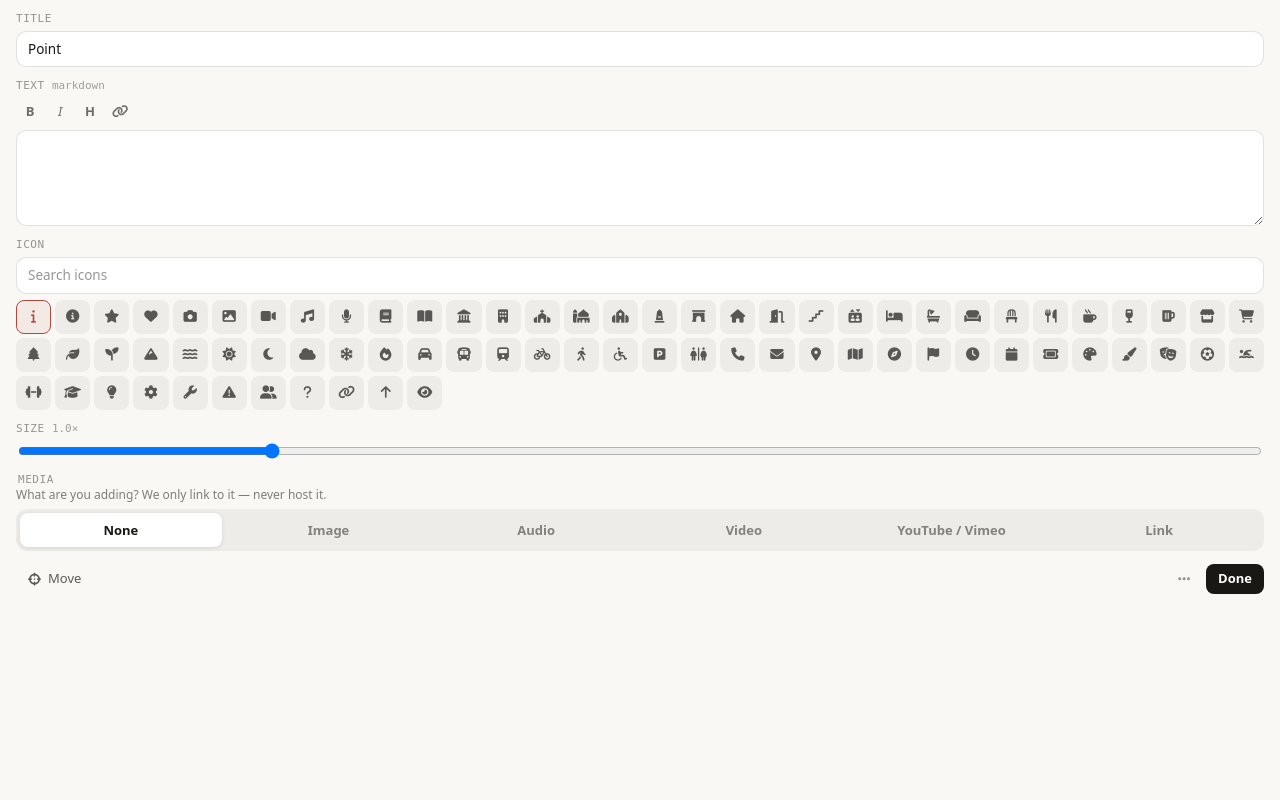
Test case: PointEditor move, and the point menu › closes on a press outside it
Click the button named "Point actions".
click(1184, 579)  # box [1168,563,1200,595]
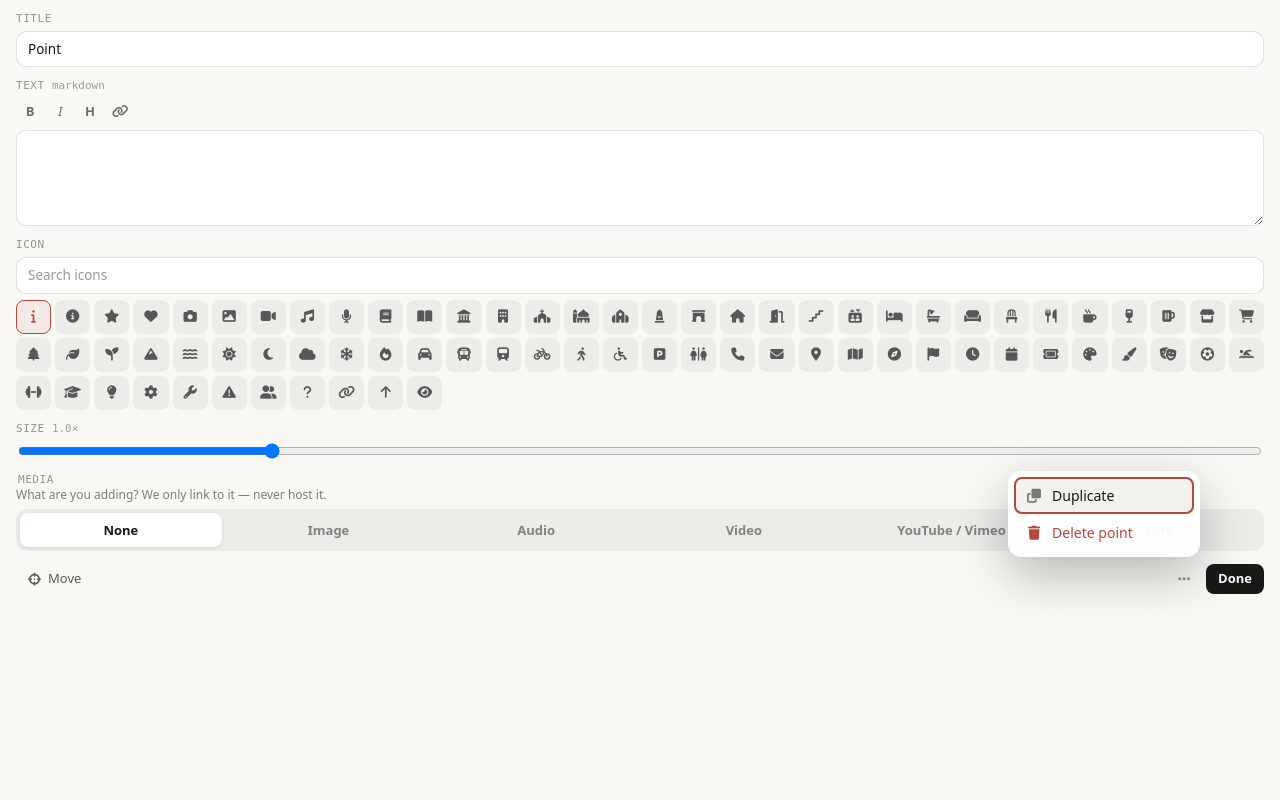
Press the mouse on the element that starts with "Title" at point(640, 306), box [0,0,1279,611]
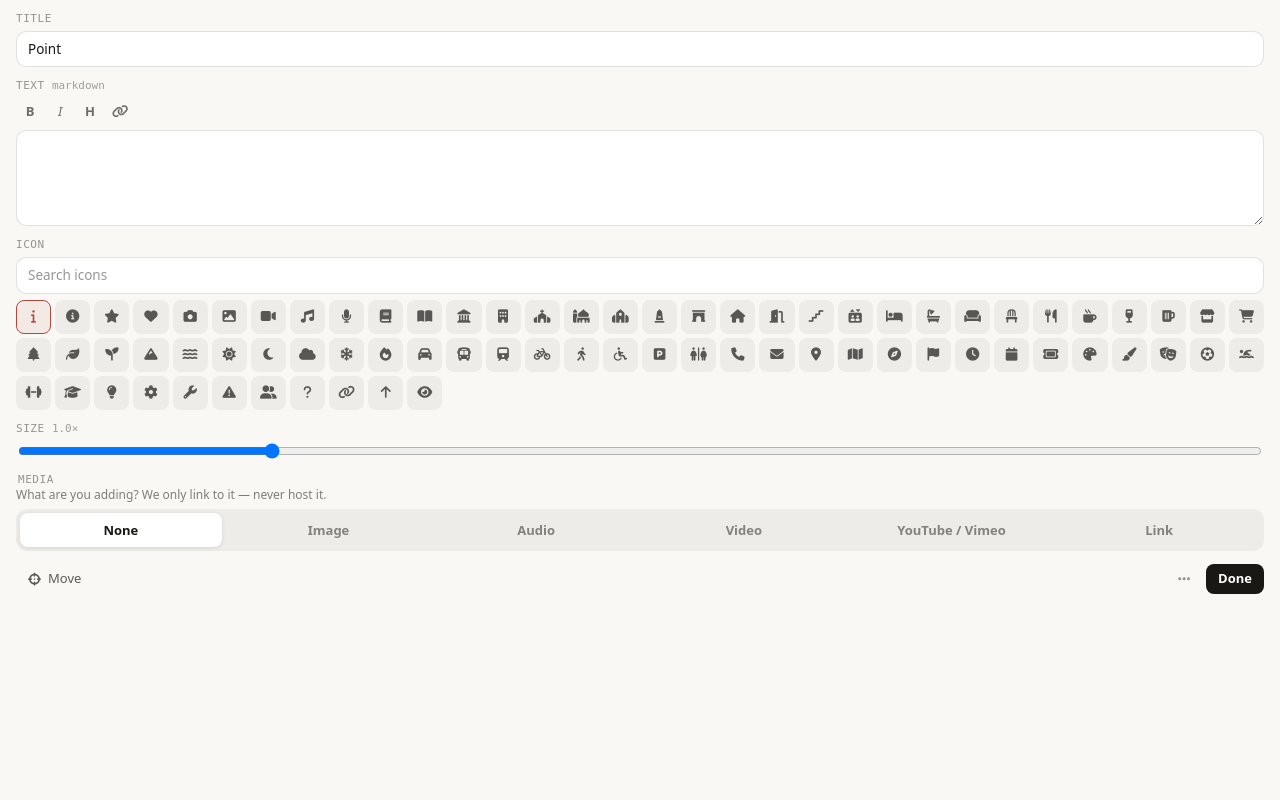
Now the menu is gone
